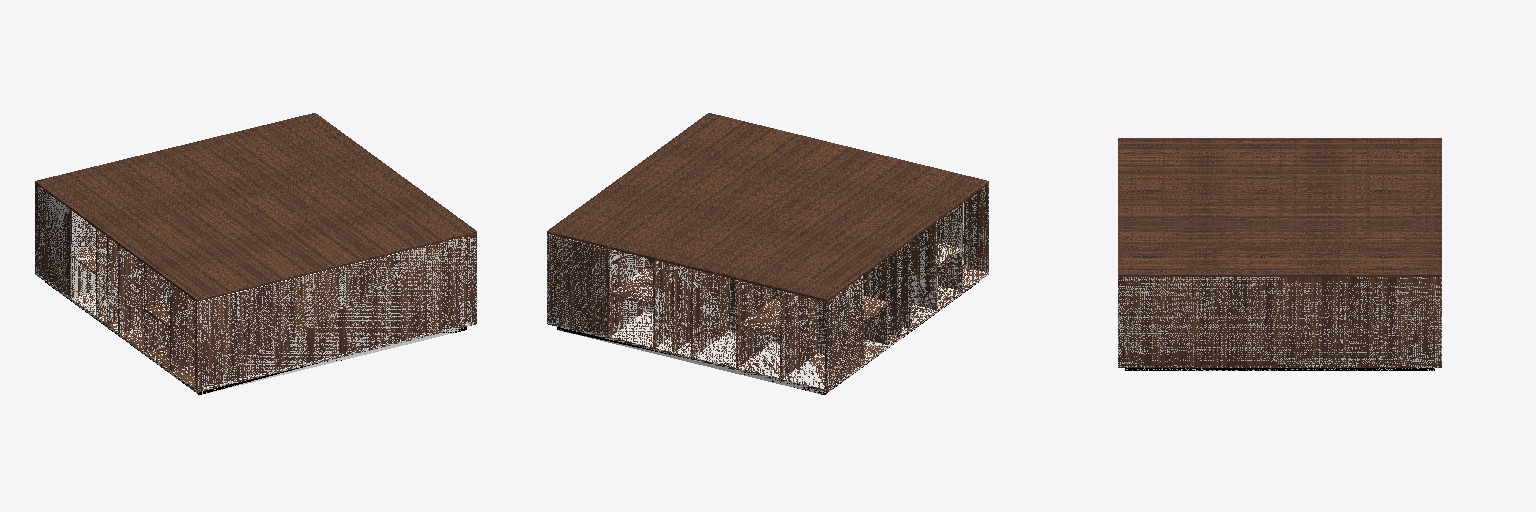
3 views of the same model, side by side, from view 1: azimuth 30°, elevation 25°; view 2: azimuth 150°, elevation 25°; view 3: azimuth 270°, elevation 25° (orthographic).
Parts seen in each view (by area): view 1: mesh2_mesh2-geometry, mesh13_mesh13-geometry, mesh18_mesh18-geometry, mesh3_mesh3-geometry, mesh14_mesh14-geometry, mesh19_mesh19-geometry, mesh20_mesh20-geometry, mesh17_mesh17-geometry, mesh24_mesh24-geometry, mesh22_mesh22-geometry, mesh23_mesh23-geometry; view 2: mesh2_mesh2-geometry, mesh3_mesh3-geometry, mesh5_mesh5-geometry, mesh18_mesh18-geometry, mesh11_mesh11-geometry, mesh7_mesh7-geometry, mesh10_mesh10-geometry, mesh17_mesh17-geometry, mesh6_mesh6-geometry, mesh13_mesh13-geometry, mesh19_mesh19-geometry, mesh23_mesh23-geometry (+8 smaller); view 3: mesh2_mesh2-geometry, mesh1_mesh1-geometry, mesh3_mesh3-geometry, mesh24_mesh24-geometry.
Boxes of the visible parts, <box> form: mesh2_mesh2-geometry: <box>35,113,476,301</box>; mesh13_mesh13-geometry: <box>195,234,474,389</box>; mesh18_mesh18-geometry: <box>35,184,69,296</box>; mesh3_mesh3-geometry: <box>35,272,476,392</box>; mesh14_mesh14-geometry: <box>118,245,143,332</box>; mesh19_mesh19-geometry: <box>170,283,194,370</box>; mesh20_mesh20-geometry: <box>70,210,95,297</box>; mesh17_mesh17-geometry: <box>144,264,169,351</box>; mesh24_mesh24-geometry: <box>45,282,466,394</box>; mesh22_mesh22-geometry: <box>107,237,117,324</box>; mesh23_mesh23-geometry: <box>96,229,106,316</box>; mesh2_mesh2-geometry: <box>547,113,988,301</box>; mesh3_mesh3-geometry: <box>547,267,988,392</box>; mesh5_mesh5-geometry: <box>549,234,607,335</box>; mesh18_mesh18-geometry: <box>825,277,862,389</box>; mesh11_mesh11-geometry: <box>780,291,817,378</box>; mesh7_mesh7-geometry: <box>691,269,728,356</box>; mesh10_mesh10-geometry: <box>608,249,645,336</box>; mesh17_mesh17-geometry: <box>912,221,937,309</box>; mesh6_mesh6-geometry: <box>736,280,772,367</box>; mesh13_mesh13-geometry: <box>963,184,988,271</box>; mesh19_mesh19-geometry: <box>938,203,963,290</box>; mesh23_mesh23-geometry: <box>864,257,889,344</box>; mesh2_mesh2-geometry: <box>1118,138,1441,276</box>; mesh1_mesh1-geometry: <box>1118,277,1441,364</box>; mesh3_mesh3-geometry: <box>1118,365,1441,367</box>; mesh24_mesh24-geometry: <box>1125,368,1434,370</box>.
Size of the model in its own units: 0.6875 by 0.2338 by 0.6875.
Materials: 3 (1 with a texture image).